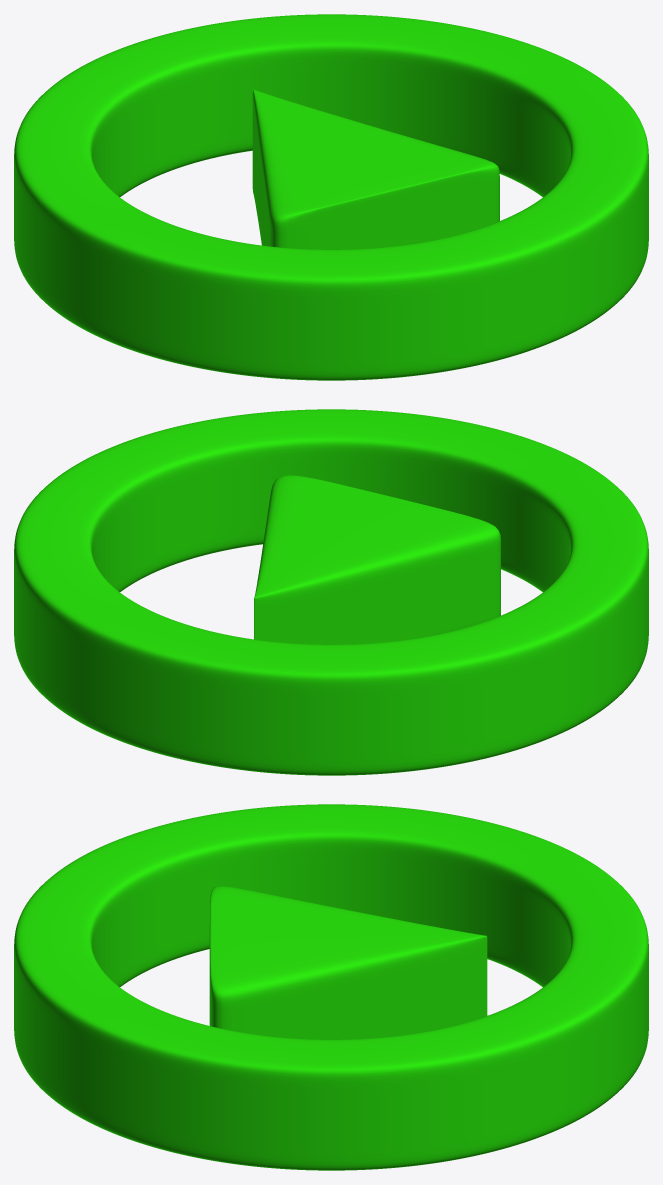
Rendered from strzalka2.gltf.
3 renders of one model, top to bottom at view 1: azimuth 30°, elevation 25°; view 2: azimuth 150°, elevation 25°; view 3: azimuth 270°, elevation 25°, orthographic.
Parts seen in each view (by area): view 1: Cube; view 2: Cube; view 3: Cube.
Part boxes in pixels (x1,y1,x2,y2): Cube: (14,14,648,380); Cube: (14,409,648,775); Cube: (14,804,648,1170).
Bounding box in the file's own units: 4.57 × 0.8303 × 4.57.
